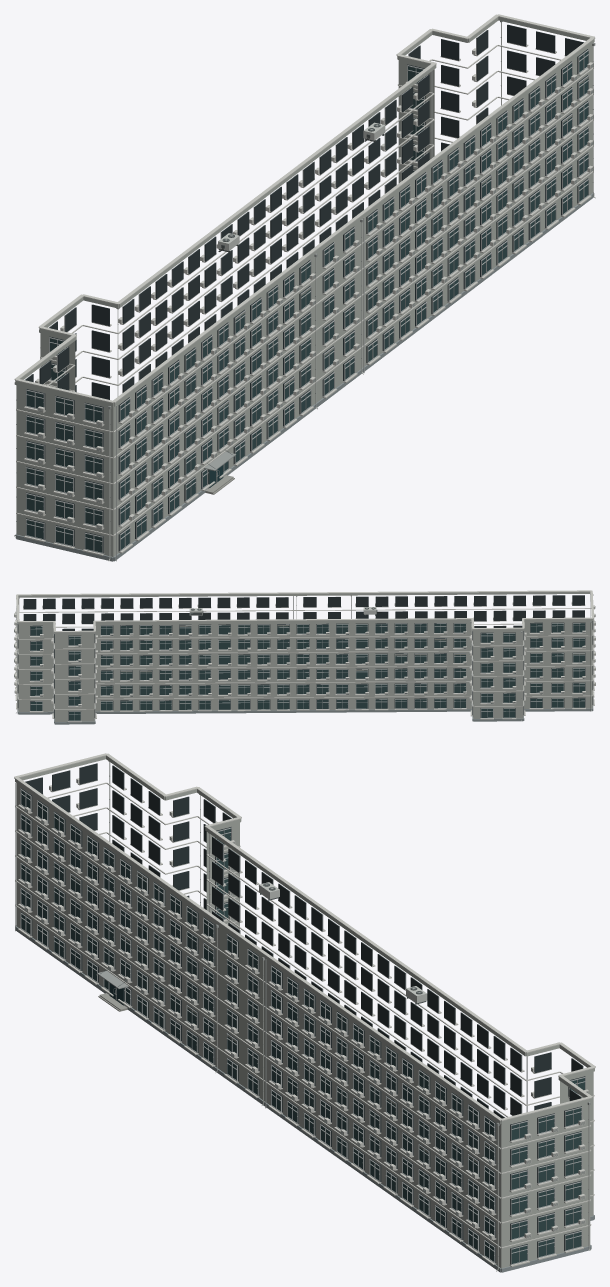
The model's file is osm_way_225253706.glb.
The picture shows the model from 3 angles, top to bottom: view 1: azimuth 30°, elevation 25°; view 2: azimuth 150°, elevation 25°; view 3: azimuth 270°, elevation 25°; orthographic projection. The views are drawn at different scales.
Visible parts, largest first — view 1: Windows and facade details | 46, Architecture | 46, Roof services | 46, EXTERIOR::osm_way_225253706::rainwater and roof service deta, EXTERIOR::osm_way_225253706::inferred entry doors canopy and; view 2: Windows and facade details | 46, Architecture | 46, Roof services | 46, EXTERIOR::osm_way_225253706::rainwater and roof service deta, EXTERIOR::osm_way_225253706::native pane seals and hardware; view 3: Windows and facade details | 46, Architecture | 46, Roof services | 46, EXTERIOR::osm_way_225253706::rainwater and roof service deta, EXTERIOR::osm_way_225253706::inferred entry doors canopy and.
Boxes of the visible parts, <box> form: Windows and facade details | 46: <box>24,24,593,561</box>; Architecture | 46: <box>15,17,594,561</box>; Roof services | 46: <box>14,14,595,403</box>; EXTERIOR::osm_way_225253706::rainwater and roof service deta: <box>14,21,595,561</box>; EXTERIOR::osm_way_225253706::inferred entry doors canopy and: <box>204,450,236,494</box>; Windows and facade details | 46: <box>14,594,595,722</box>; Architecture | 46: <box>17,592,593,724</box>; Roof services | 46: <box>16,590,593,632</box>; EXTERIOR::osm_way_225253706::rainwater and roof service deta: <box>16,594,593,721</box>; EXTERIOR::osm_way_225253706::native pane seals and hardware: <box>120,625,584,705</box>; Windows and facade details | 46: <box>15,763,588,1266</box>; Architecture | 46: <box>15,756,594,1272</box>; Roof services | 46: <box>14,753,595,1121</box>; EXTERIOR::osm_way_225253706::rainwater and roof service deta: <box>108,761,590,1271</box>; EXTERIOR::osm_way_225253706::inferred entry doors canopy and: <box>97,969,128,1011</box>.
Bounding box in the file's own units: 102 × 20.58 × 68.15.
